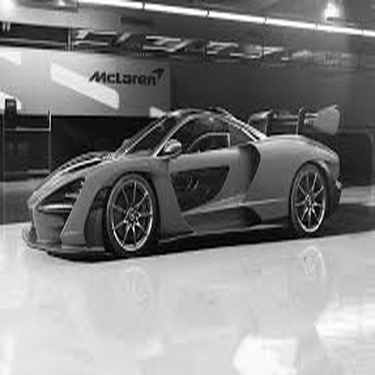car: (20, 97, 345, 262)
